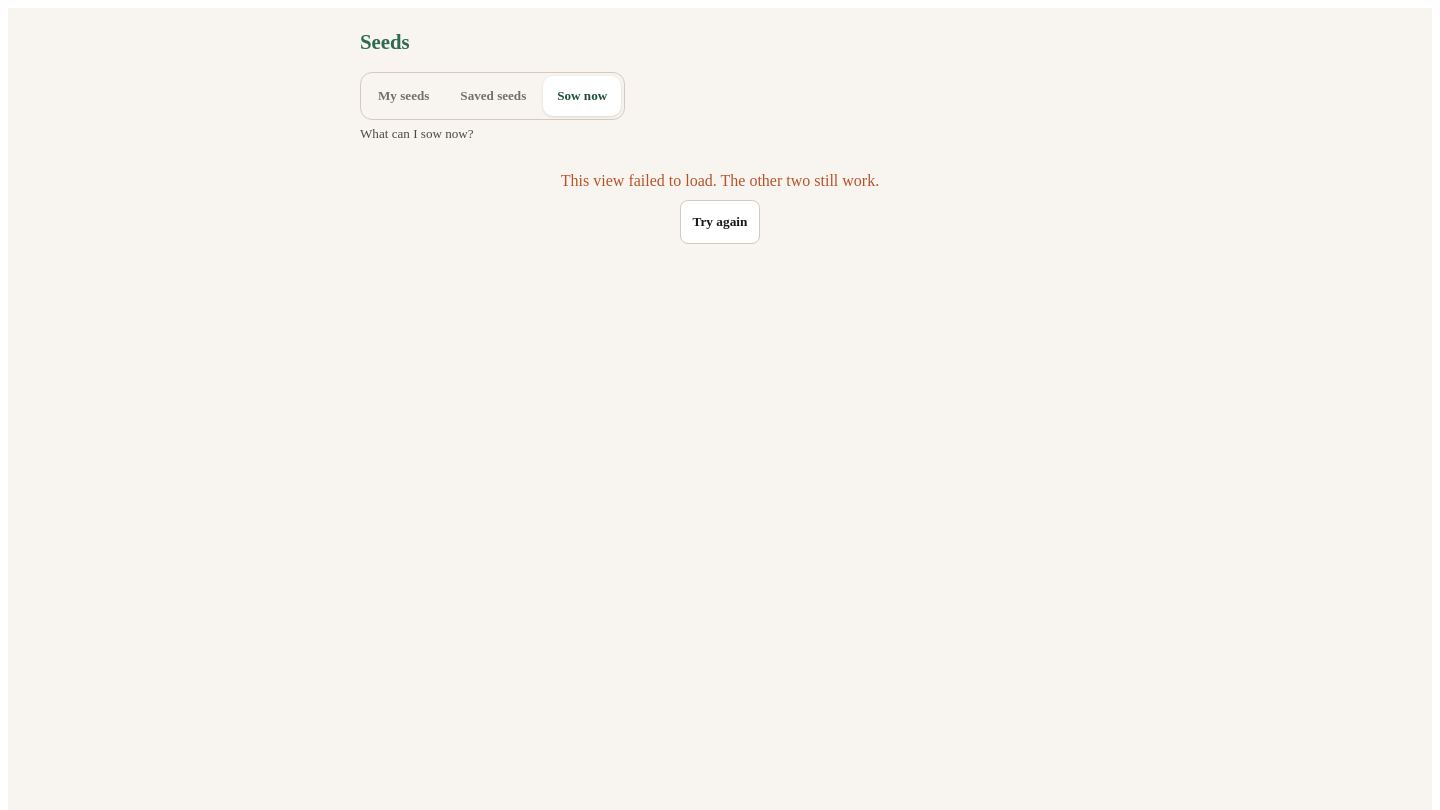
Test: Seeds — a view that throws costs that view only › a Sow now engine throw leaves the switch standing, and My seeds still mounts
The width and height of the screenshot is (1440, 810).
Expected: the message "This view failed to load. The other two still work. Try again" is shown, top-left (561, 172), bottom-right (879, 244)
Expected: the element with test id "seeds-view-switch" is shown, top-left (360, 72), bottom-right (625, 120)
Click the radio button labelled "My seeds".
click(404, 96)  # box top-left (364, 76), bottom-right (443, 116)
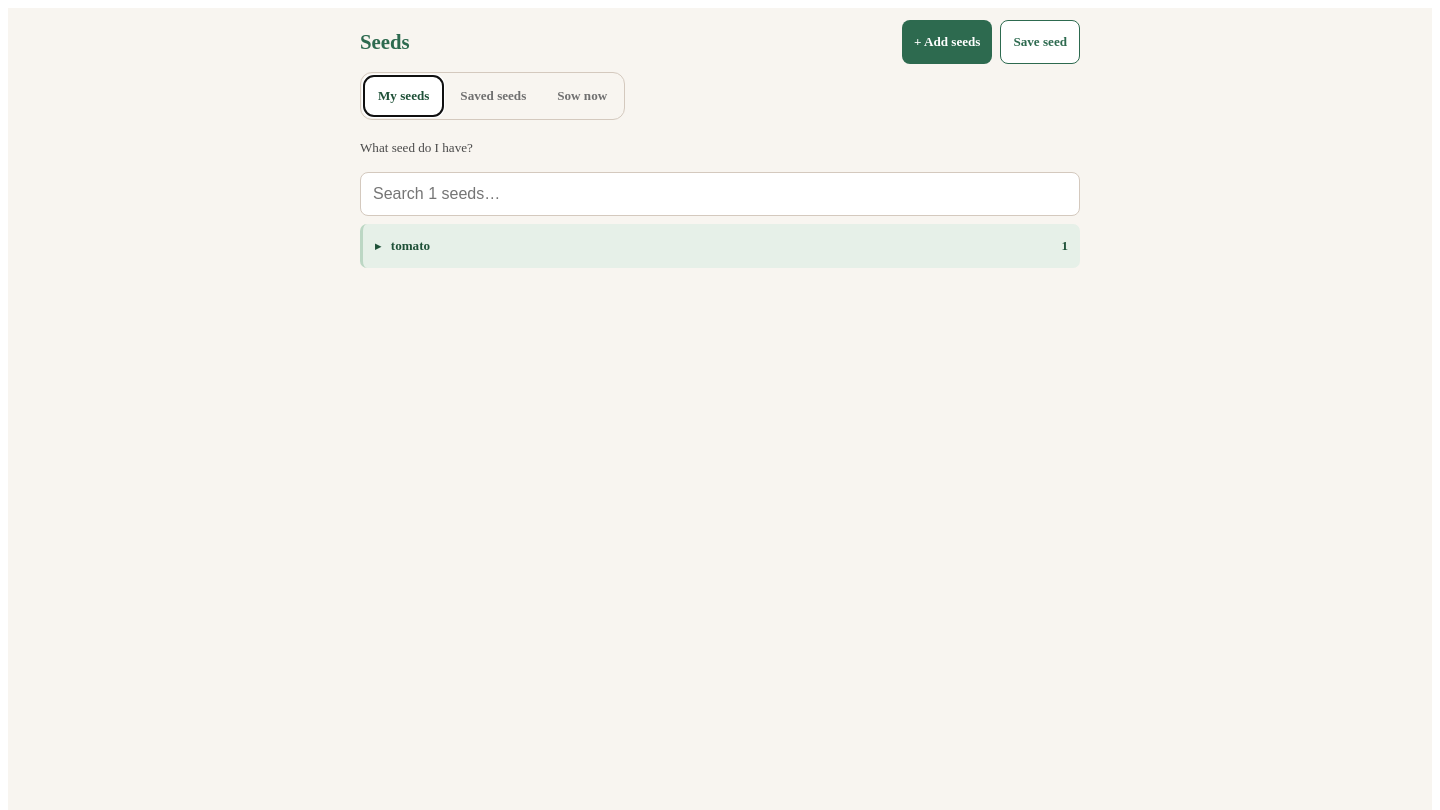
Expected: the element with test id "my-seeds-view" is shown, top-left (360, 126), bottom-right (1080, 268)
Expected: the message with test id "seeds-view-error" is gone
